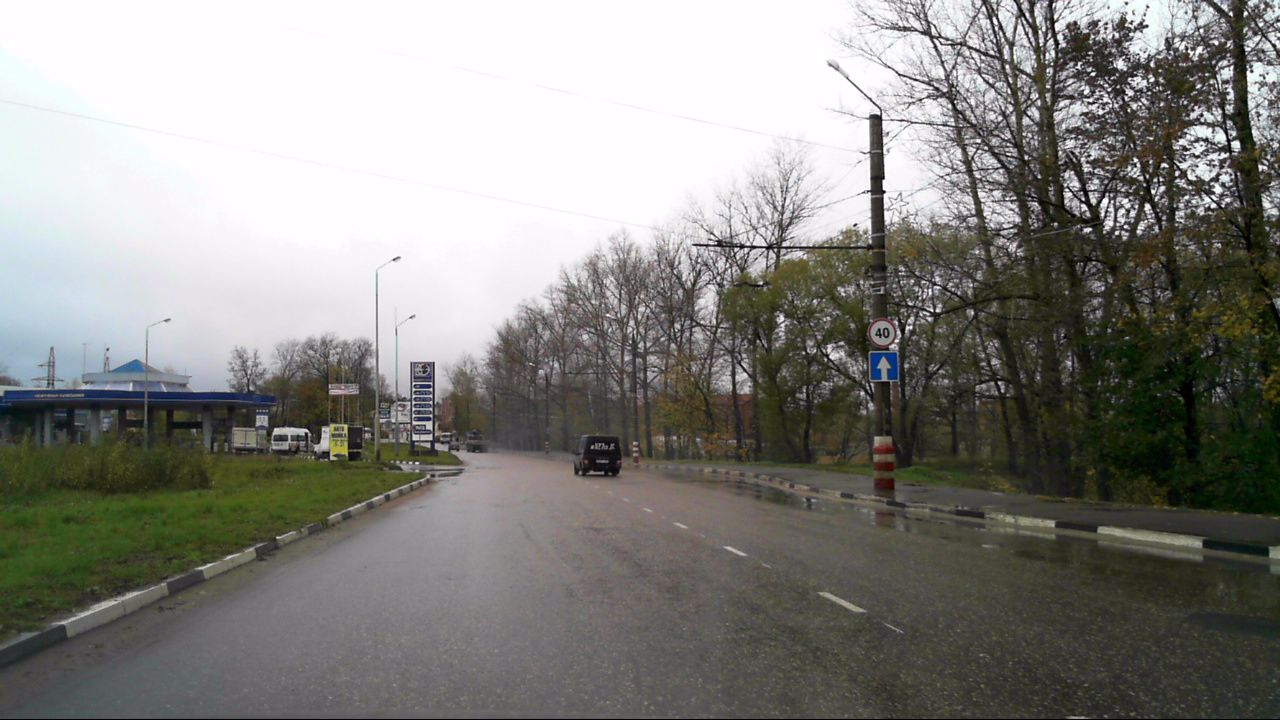speed_warning_40: (866, 319, 897, 349)
